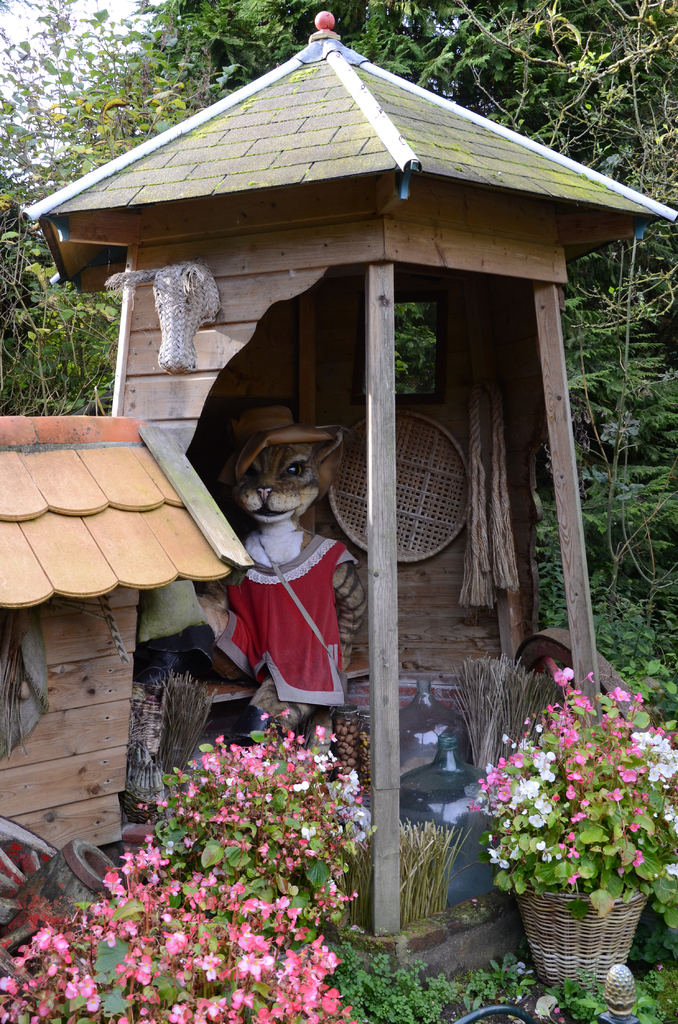Tree: (1, 0, 677, 717)
